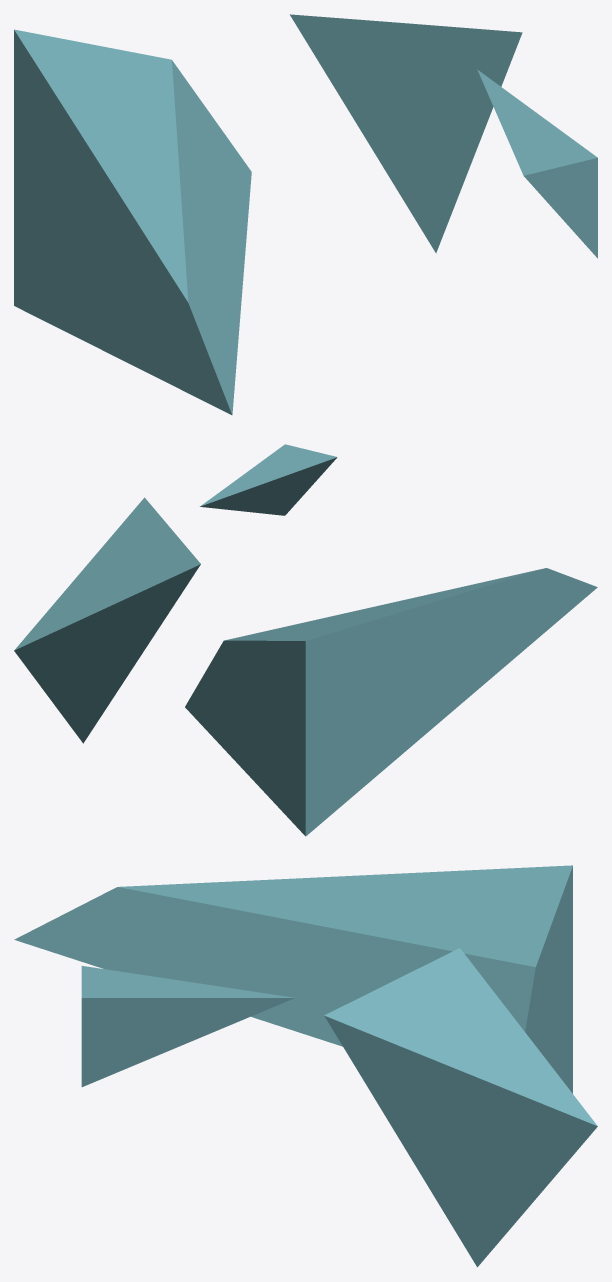
Rendered from AP_Ice Shards.FBX.
3 renders of one model, top to bottom at view 1: azimuth 30°, elevation 25°; view 2: azimuth 150°, elevation 25°; view 3: azimuth 270°, elevation 25°, orthographic. The views are drawn at different scales.
Parts seen in each view (by area): view 1: Ice Shard 3, Ice Shard, Ice Shard 2; view 2: Ice Shard 3, Ice Shard, Ice Shard 2; view 3: Ice Shard 3, Ice Shard, Ice Shard 2.
Part boxes in pixels (x1=…): Ice Shard 3: x1=14, y1=29, x2=251, y2=414; Ice Shard: x1=289, y1=14, x2=522, y2=253; Ice Shard 2: x1=477, y1=69, x2=597, y2=258; Ice Shard 3: x1=185, y1=568, x2=597, y2=836; Ice Shard: x1=14, y1=497, x2=200, y2=743; Ice Shard 2: x1=200, y1=444, x2=337, y2=515; Ice Shard 3: x1=14, y1=865, x2=572, y2=1093; Ice Shard: x1=324, y1=948, x2=597, y2=1267; Ice Shard 2: x1=81, y1=966, x2=294, y2=1086.
Size of the model in its own units: 16.11 by 8.91 by 18.58.
